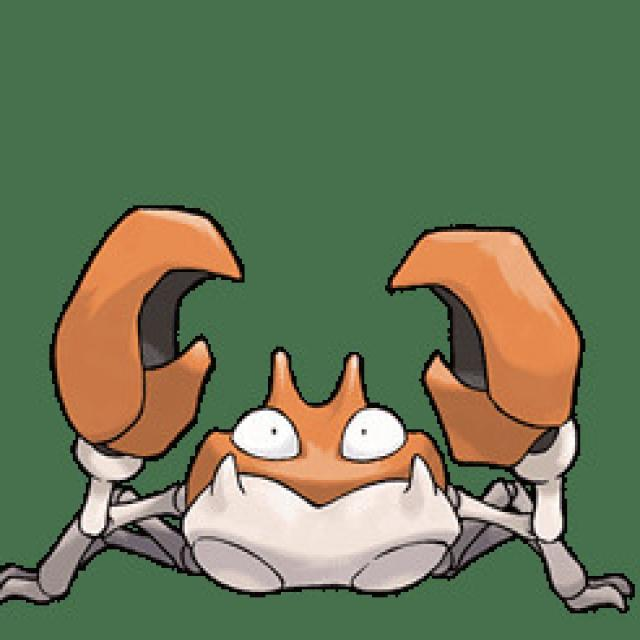Krabby: (56, 230, 572, 594)
